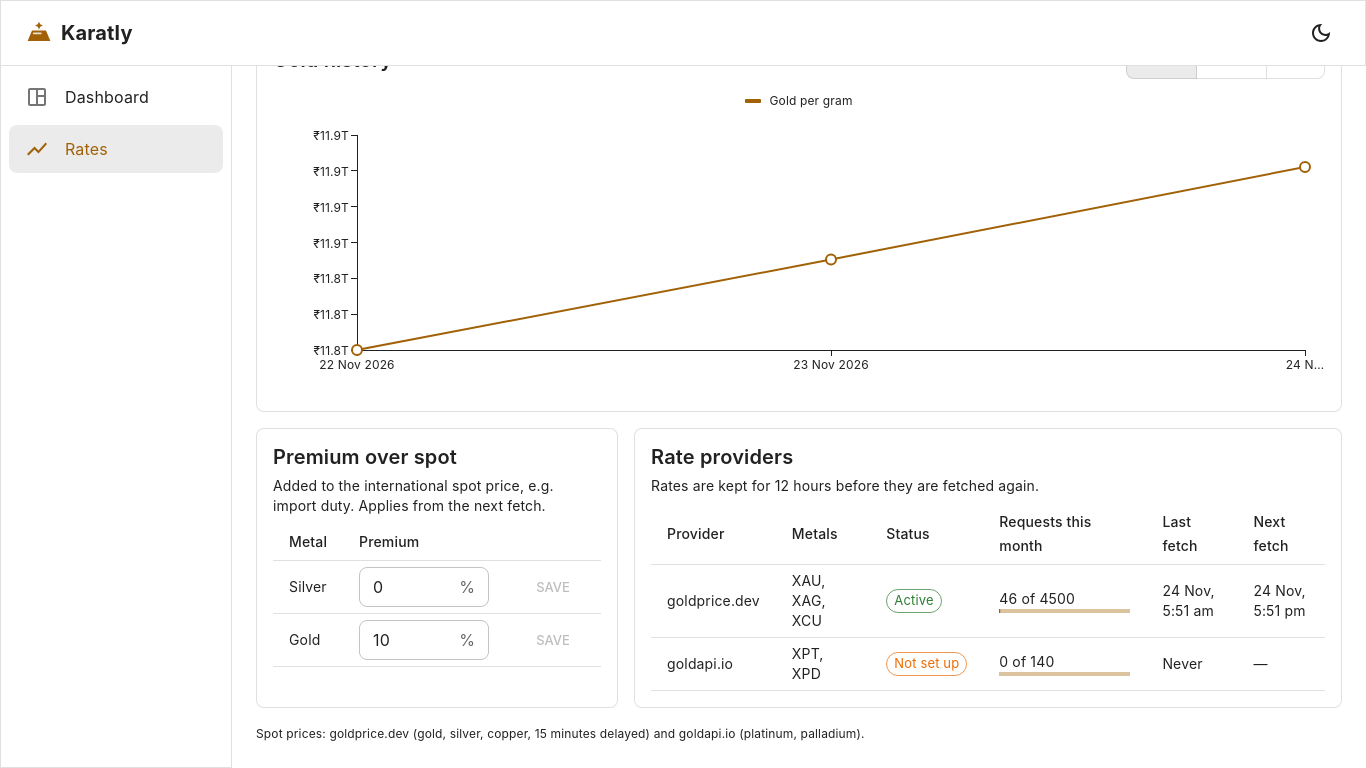
Test: Rates page › saves a premium
This screenshot has width=1366, height=768.
(page scrolled)
Replace the text in the field named "Gold premium" with "6": [405, 640] box [359,620,451,660]
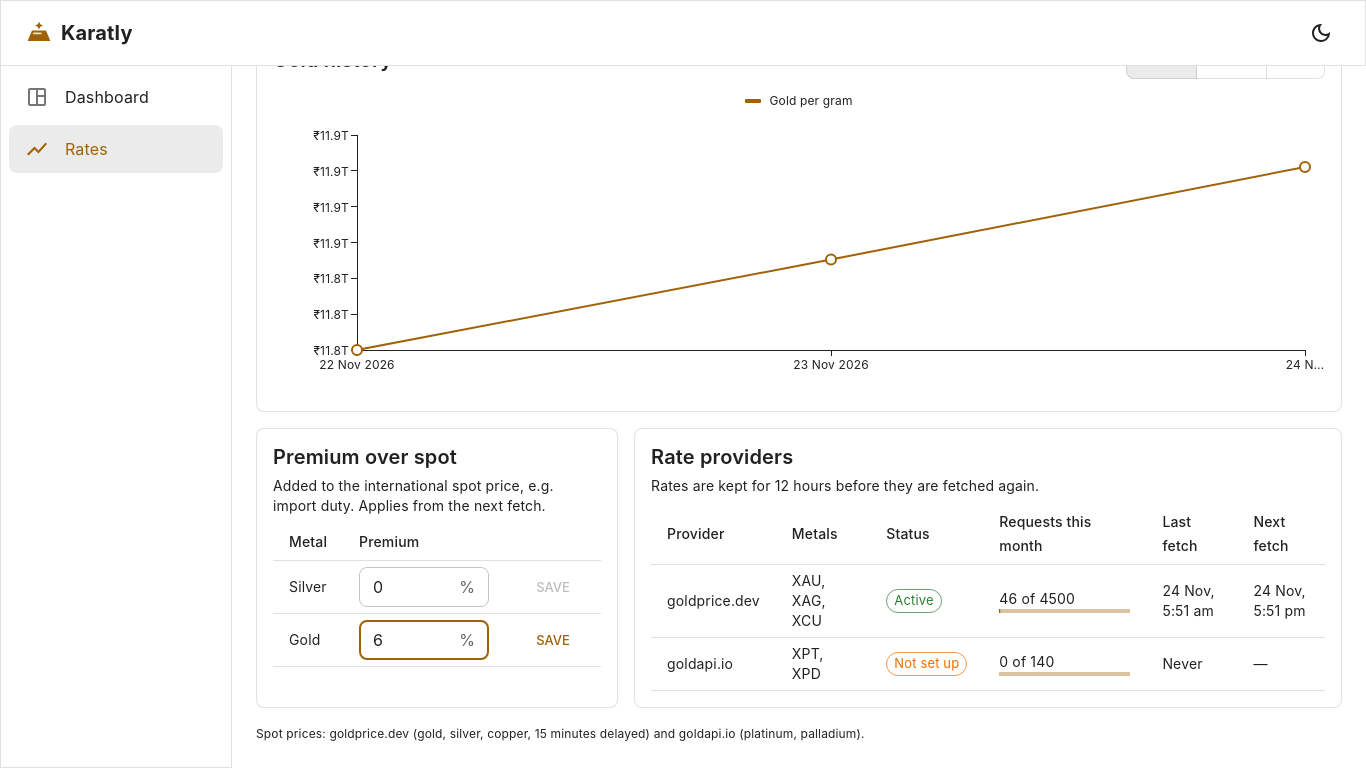
Click the 2nd button "Save": [553, 640] box [521,625,585,656]
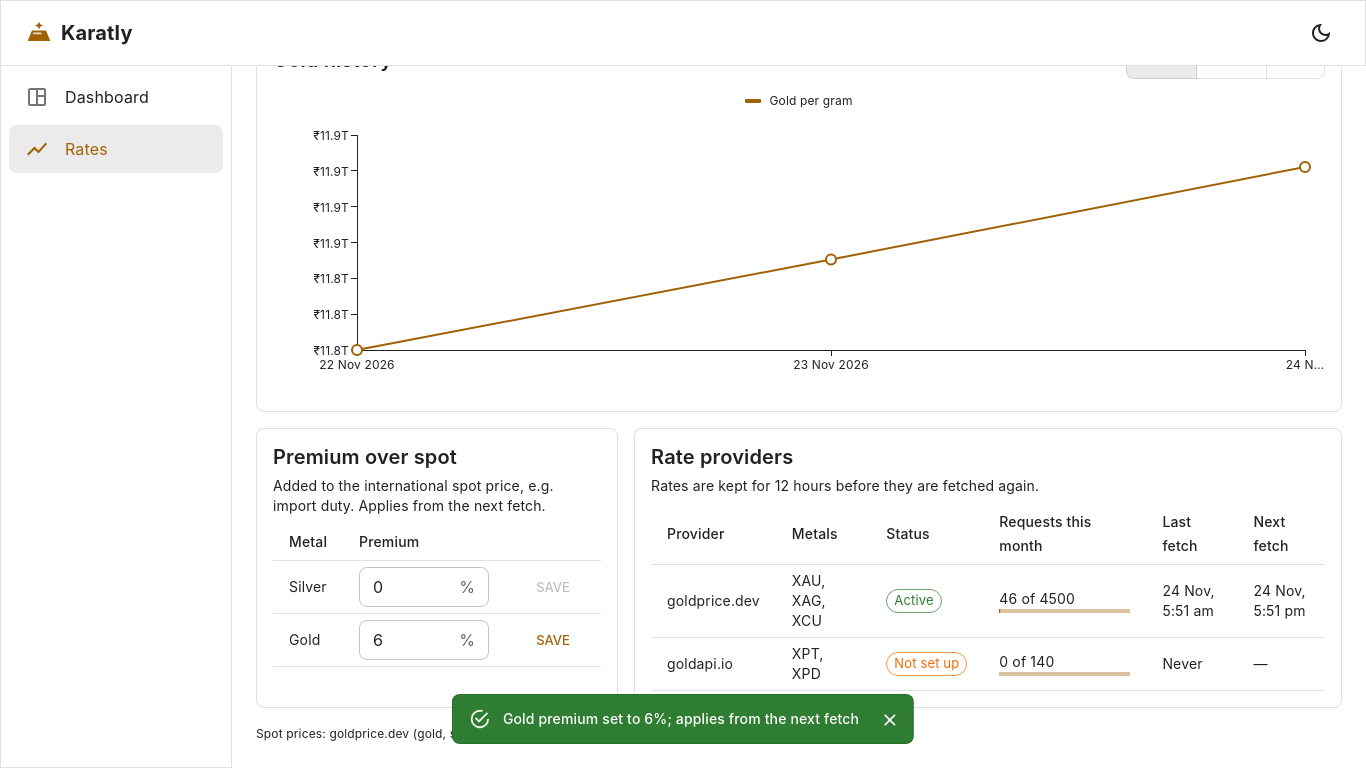
Now the text "Gold premium set to 6%; applies from the next fetch" is shown, box [503,710,859,727]
